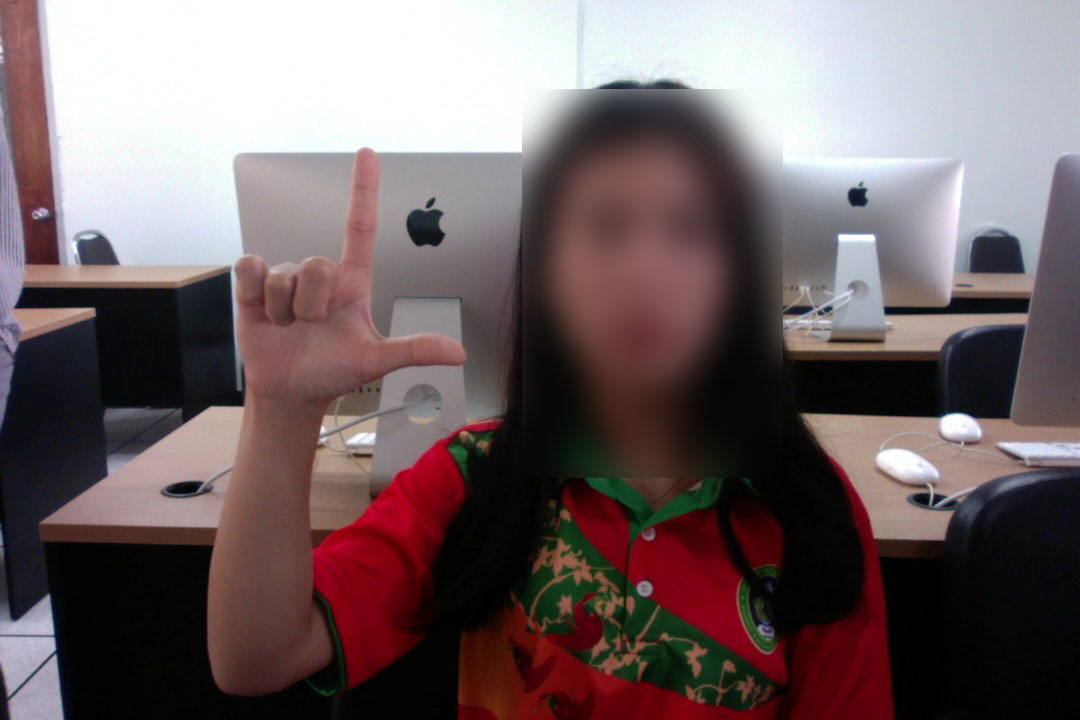lor: (219, 136, 488, 455)
